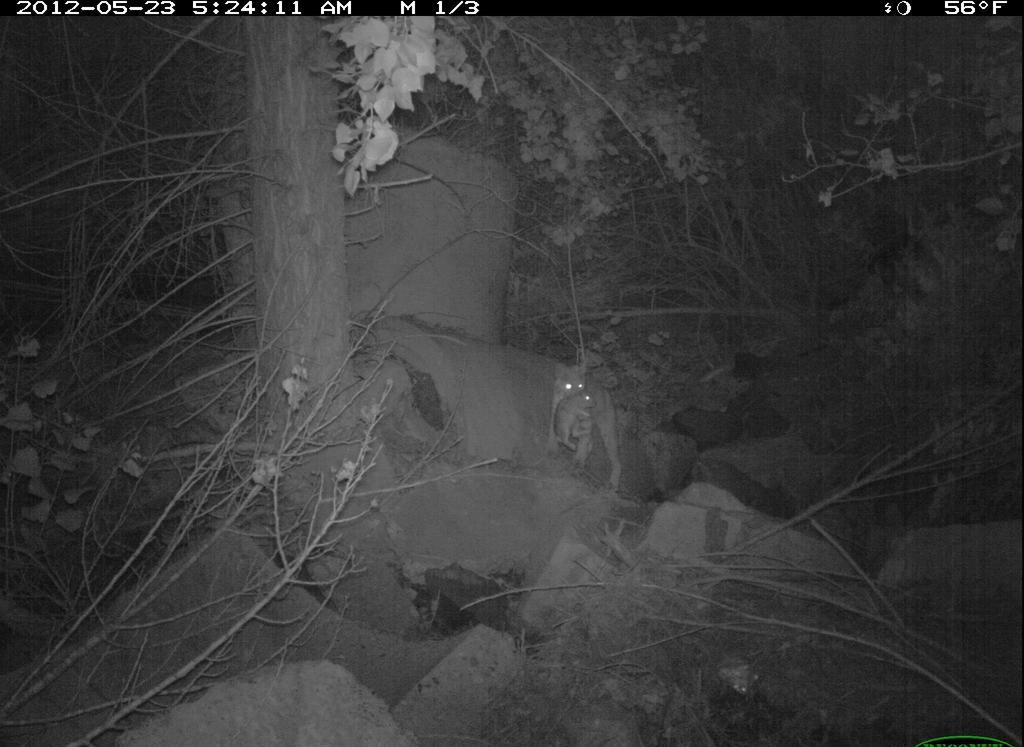bobcat: (543, 351, 628, 498)
rabbit: (551, 385, 602, 455)
